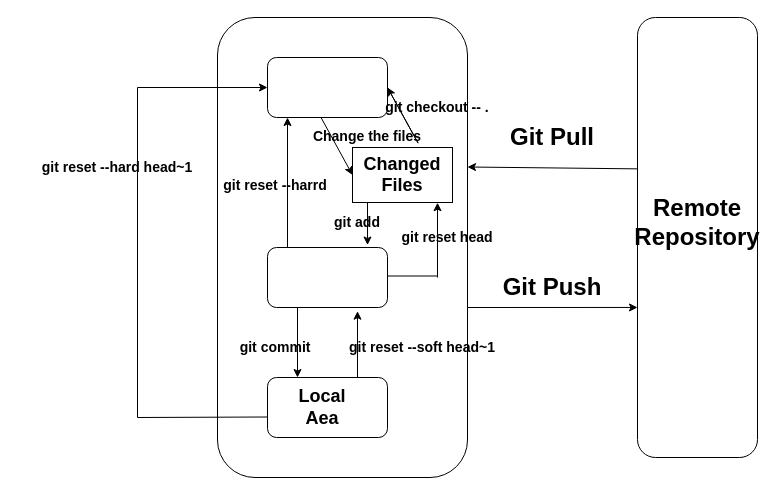
Image size: 777x495. Some labels were removed from this diagram. Here are the shapes that lost their labels. From the top down, the centre of each, then its label:
At (327,87): "Working Area".
At (327,277): "Staging Area".
